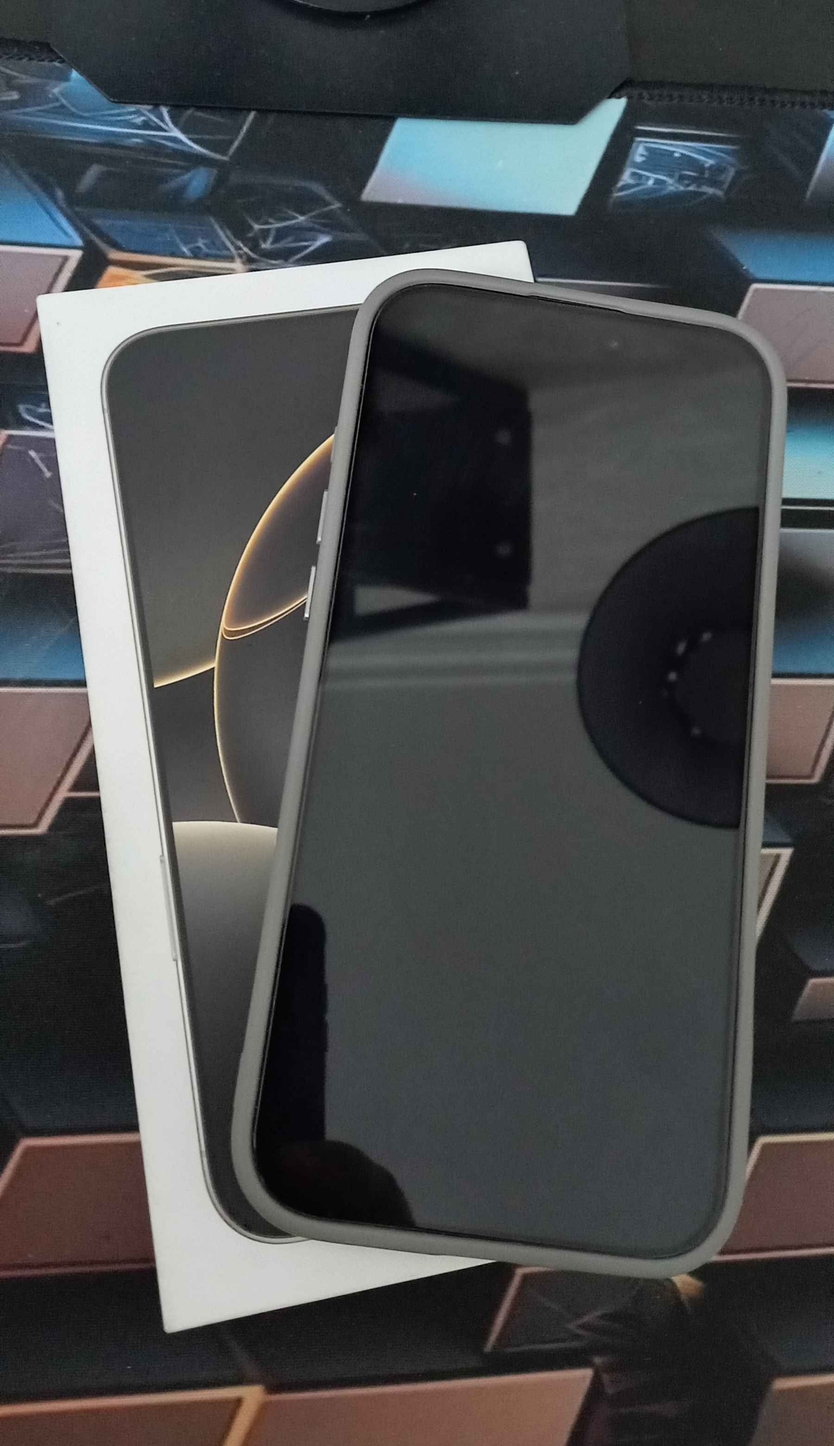phone: (221, 261, 787, 1276)
